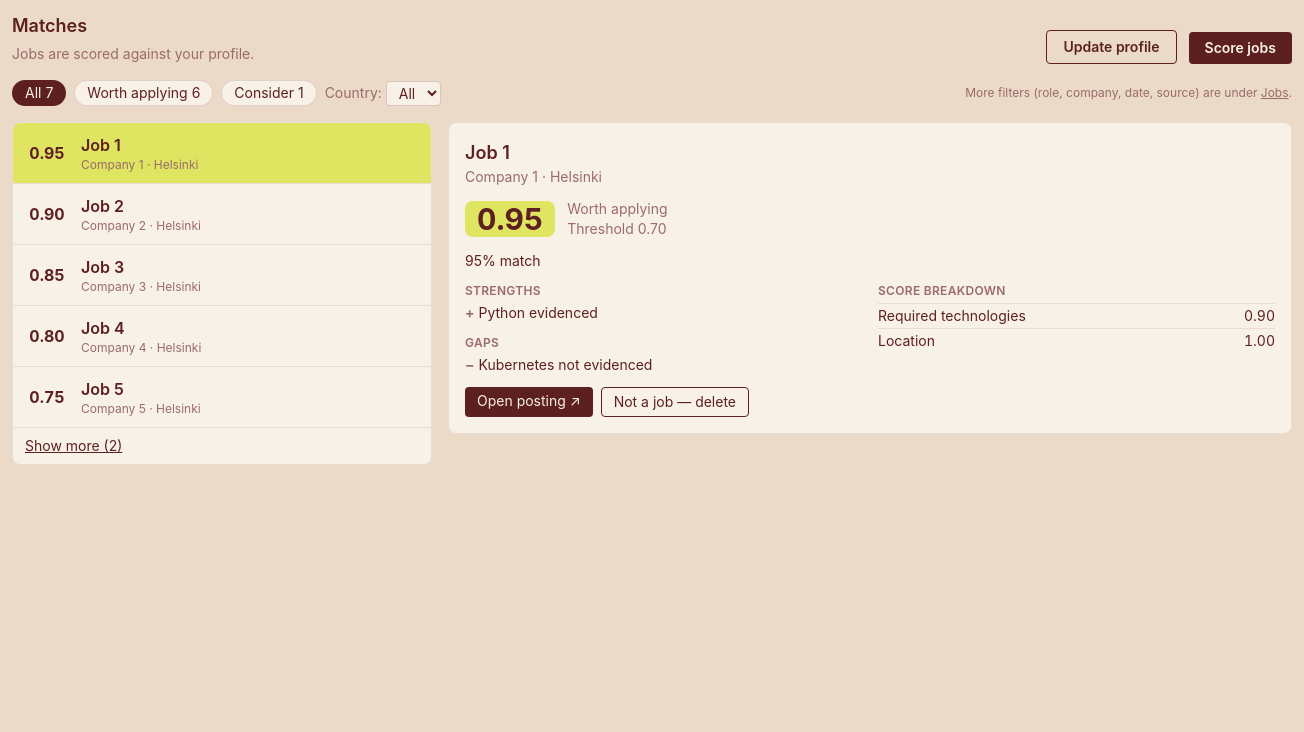
Test: matches › MF5: lists the top 5, then the rest on Show more
Expected: the element named "Selected job" is shown, [448,122,1292,434]
Expected: the text "Job 5" is shown, [81,379,124,399]
Click the button "Show more (2)". click: (74, 446)
box: [13,428,431,464]
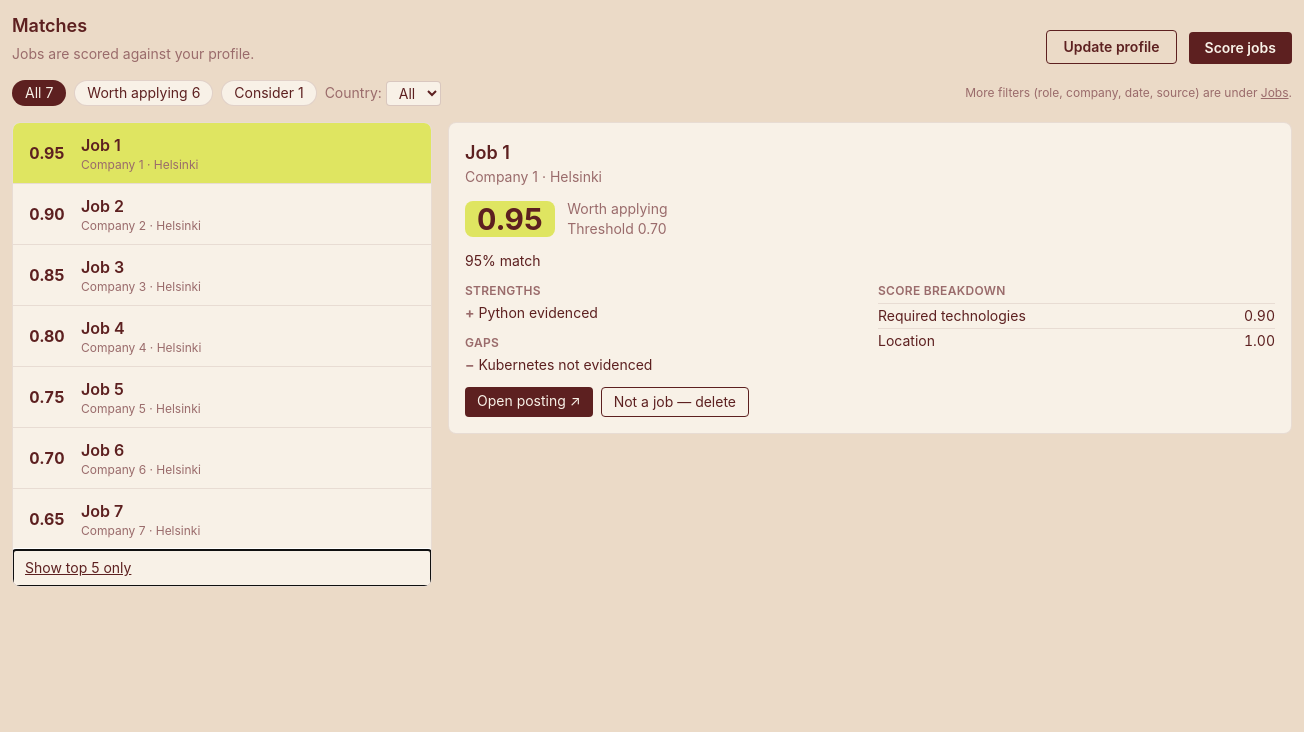
Result: the text "Job 7" is shown at [81,501,123,521]
